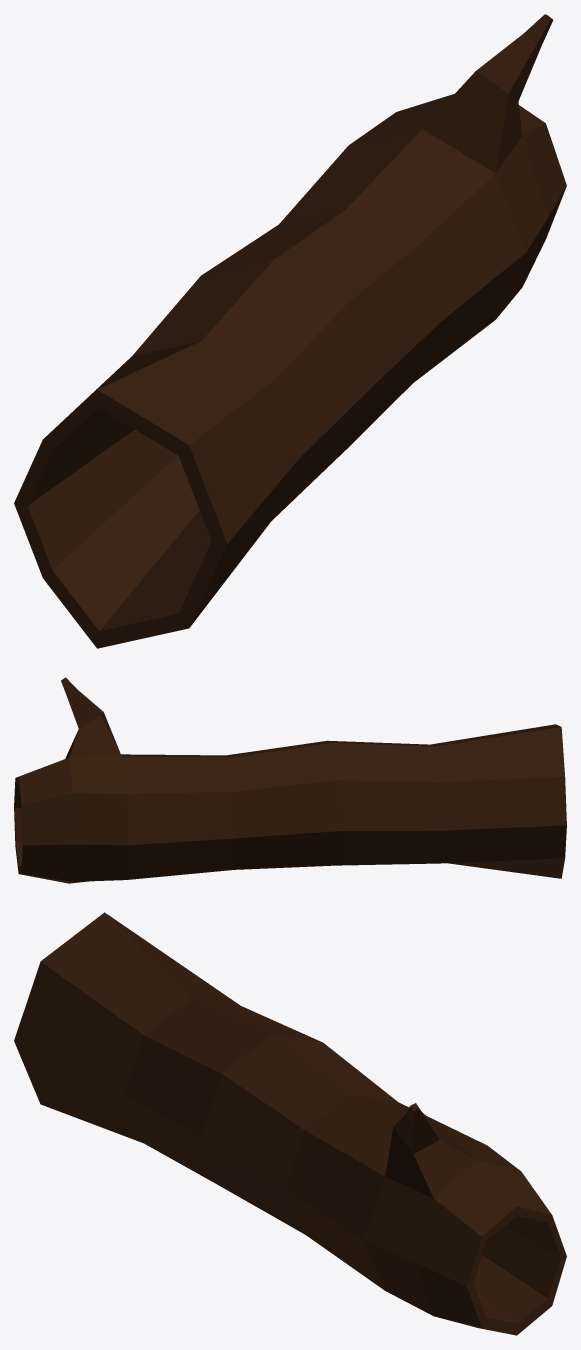
Rendered from logB.fbx.
The picture shows the model from 3 angles, top to bottom: view 1: azimuth 30°, elevation 25°; view 2: azimuth 150°, elevation 25°; view 3: azimuth 270°, elevation 25°; orthographic projection. The views are drawn at different scales.
Parts seen in each view (by area): view 1: Cylinder.003; view 2: Cylinder.003; view 3: Cylinder.003.
Boxes of the visible parts, x1,y1,x2,y2 form: Cylinder.003: (14, 14, 566, 648); Cylinder.003: (14, 677, 566, 883); Cylinder.003: (14, 912, 566, 1335).
Bounding box in the file's own units: 21562 × 9112 × 17683.
